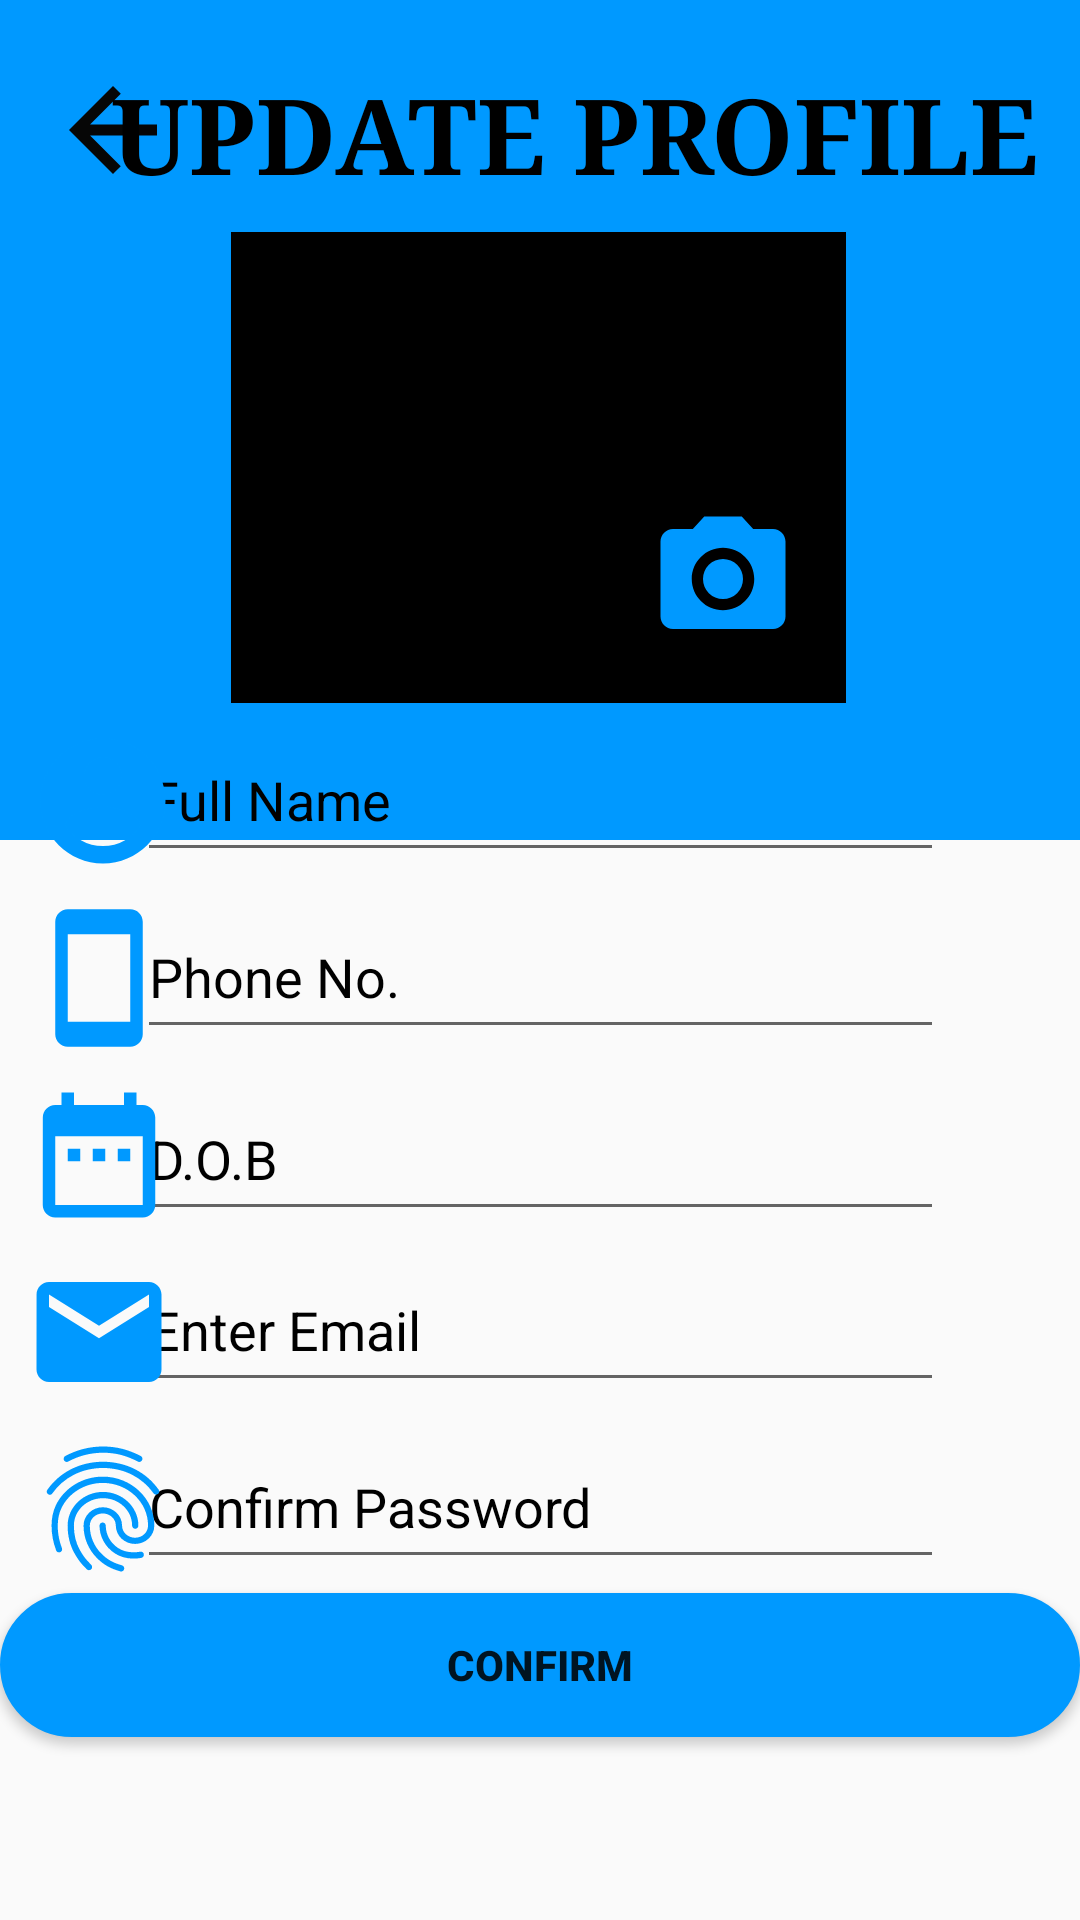

Named icons in this screenshot (1080px×1920px) and their centers, point (x, y):
camera: point (723, 572)
date range: point (115, 1155)
fingerprint: point (114, 1509)
smartphone: point (118, 978)
